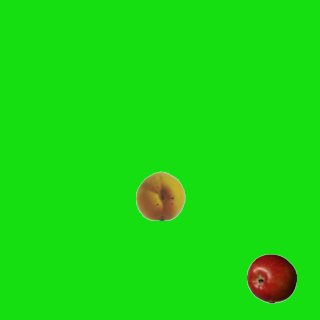Apple Braeburn: (246, 253, 296, 303)
Peach 2: (135, 170, 185, 220)
